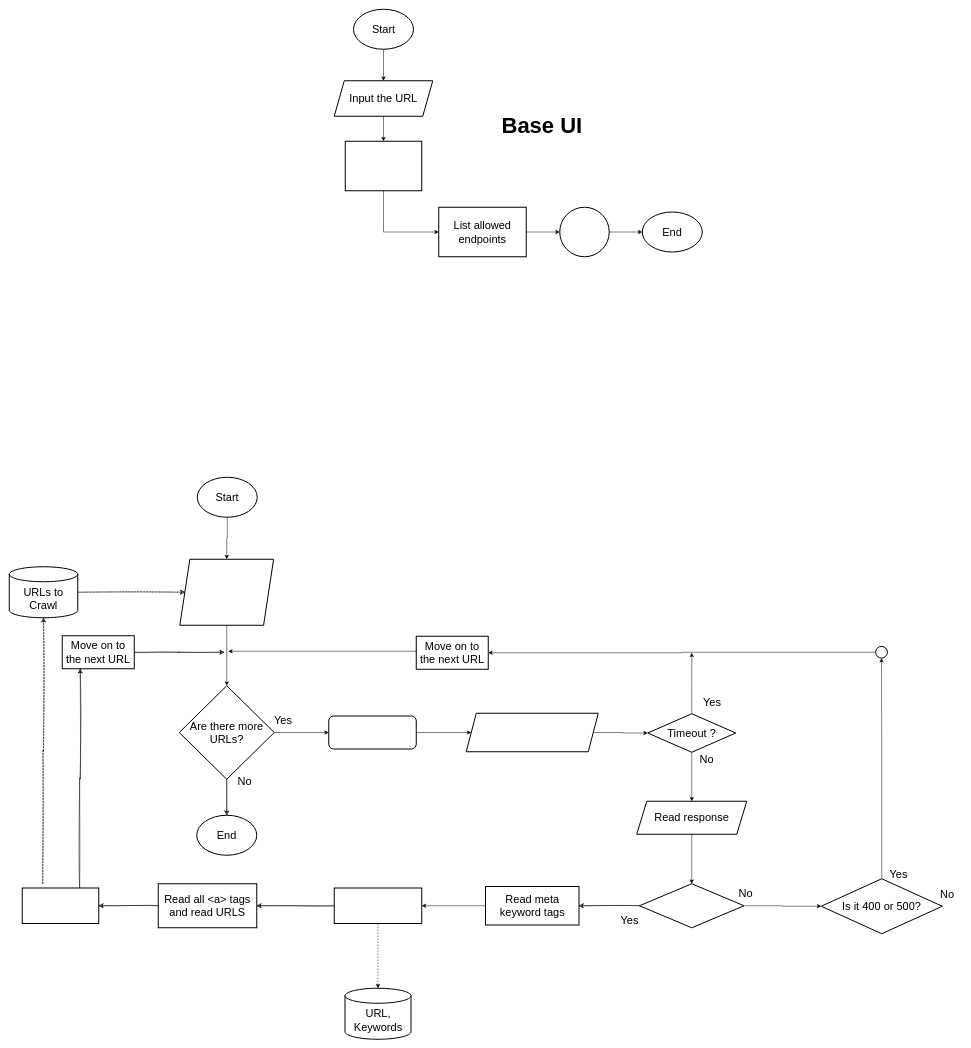
This 971x1048 diagram has some shape labels left out. Each missing label, with the centre of its shape:
Add URLs to the DB: (60,905)
Crawl: (584,231)
For i th URL: (372,732)
Is it 200?: (691,905)
Query robots.txt: (383,165)
Read the endpoints list to the URL list: (226,592)
Send HTTP request: (532,732)
Store URL, keywords: (378,905)
